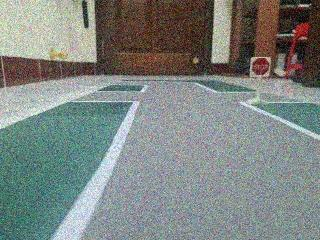stop: (249, 54, 273, 82)
